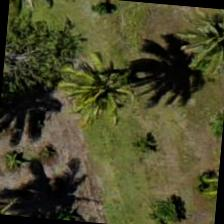Kelapa_Sawit: (50, 41, 148, 139), (174, 5, 223, 87)
